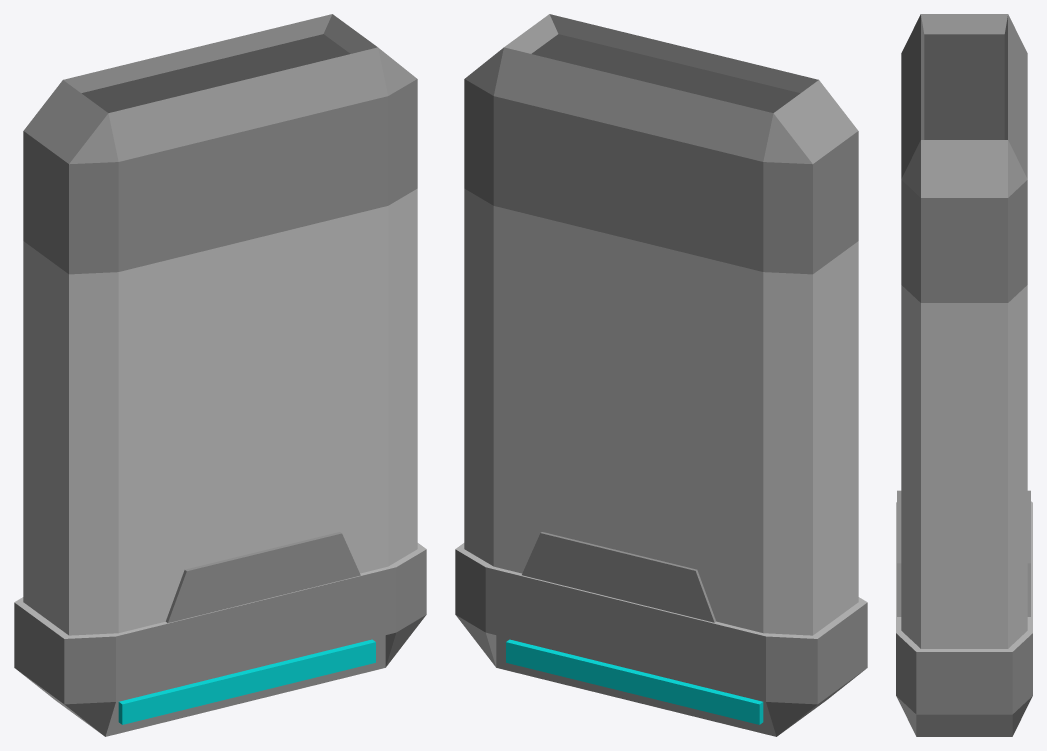
The model's file is SM_Magazine_L3.fbx.
The picture shows the model from 3 angles, left to right: view 1: azimuth 30°, elevation 25°; view 2: azimuth 150°, elevation 25°; view 3: azimuth 270°, elevation 25°; orthographic projection. The views are drawn at different scales.
Visible parts, largest first — view 1: SM_Magazine_L3; view 2: SM_Magazine_L3; view 3: SM_Magazine_L3.
Part boxes in pixels (<box>): SM_Magazine_L3: <box>14,14,426,736</box>; SM_Magazine_L3: <box>455,14,867,736</box>; SM_Magazine_L3: <box>896,14,1032,736</box>.
Size of the model in its own units: 10.02 by 16.41 by 3.42.
